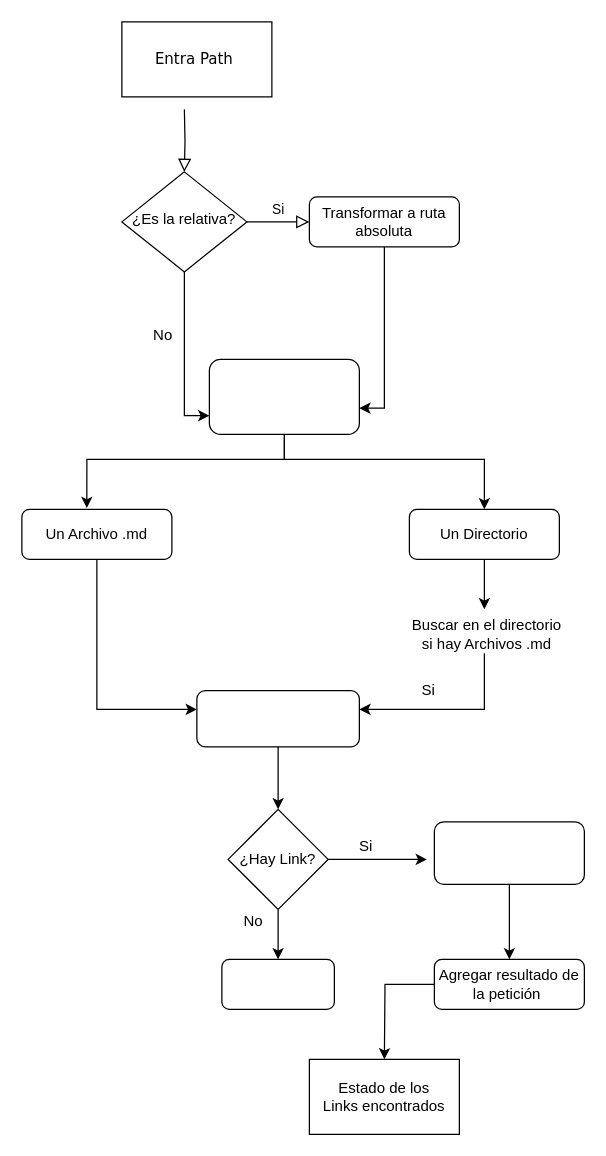
This 606x1156 diagram has some shape labels left out. Here are the shapes that lost their labels. From the top down, the centre of each, then its label:
At (x=283, y=396): "Leer si lo que se está ingresando es".
At (x=277, y=718): "Recorrer el Archivo .md".
At (x=508, y=852): "Llamada HTTP consultar estado de cada link".
At (x=277, y=983): "Mensaje de no hay Link".
